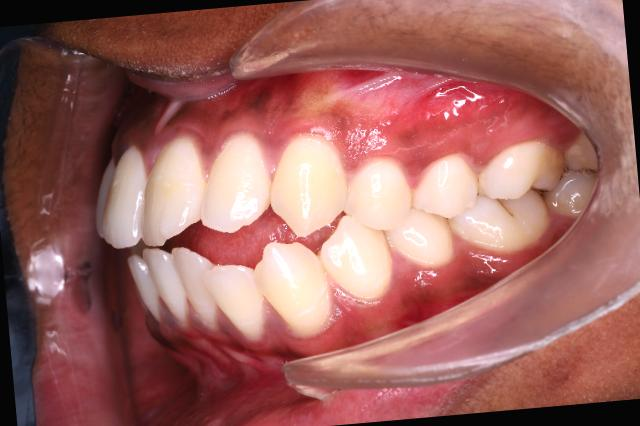canine class II 1/4: (239, 118, 400, 345)
molar class III 1/2: (444, 132, 574, 261)
